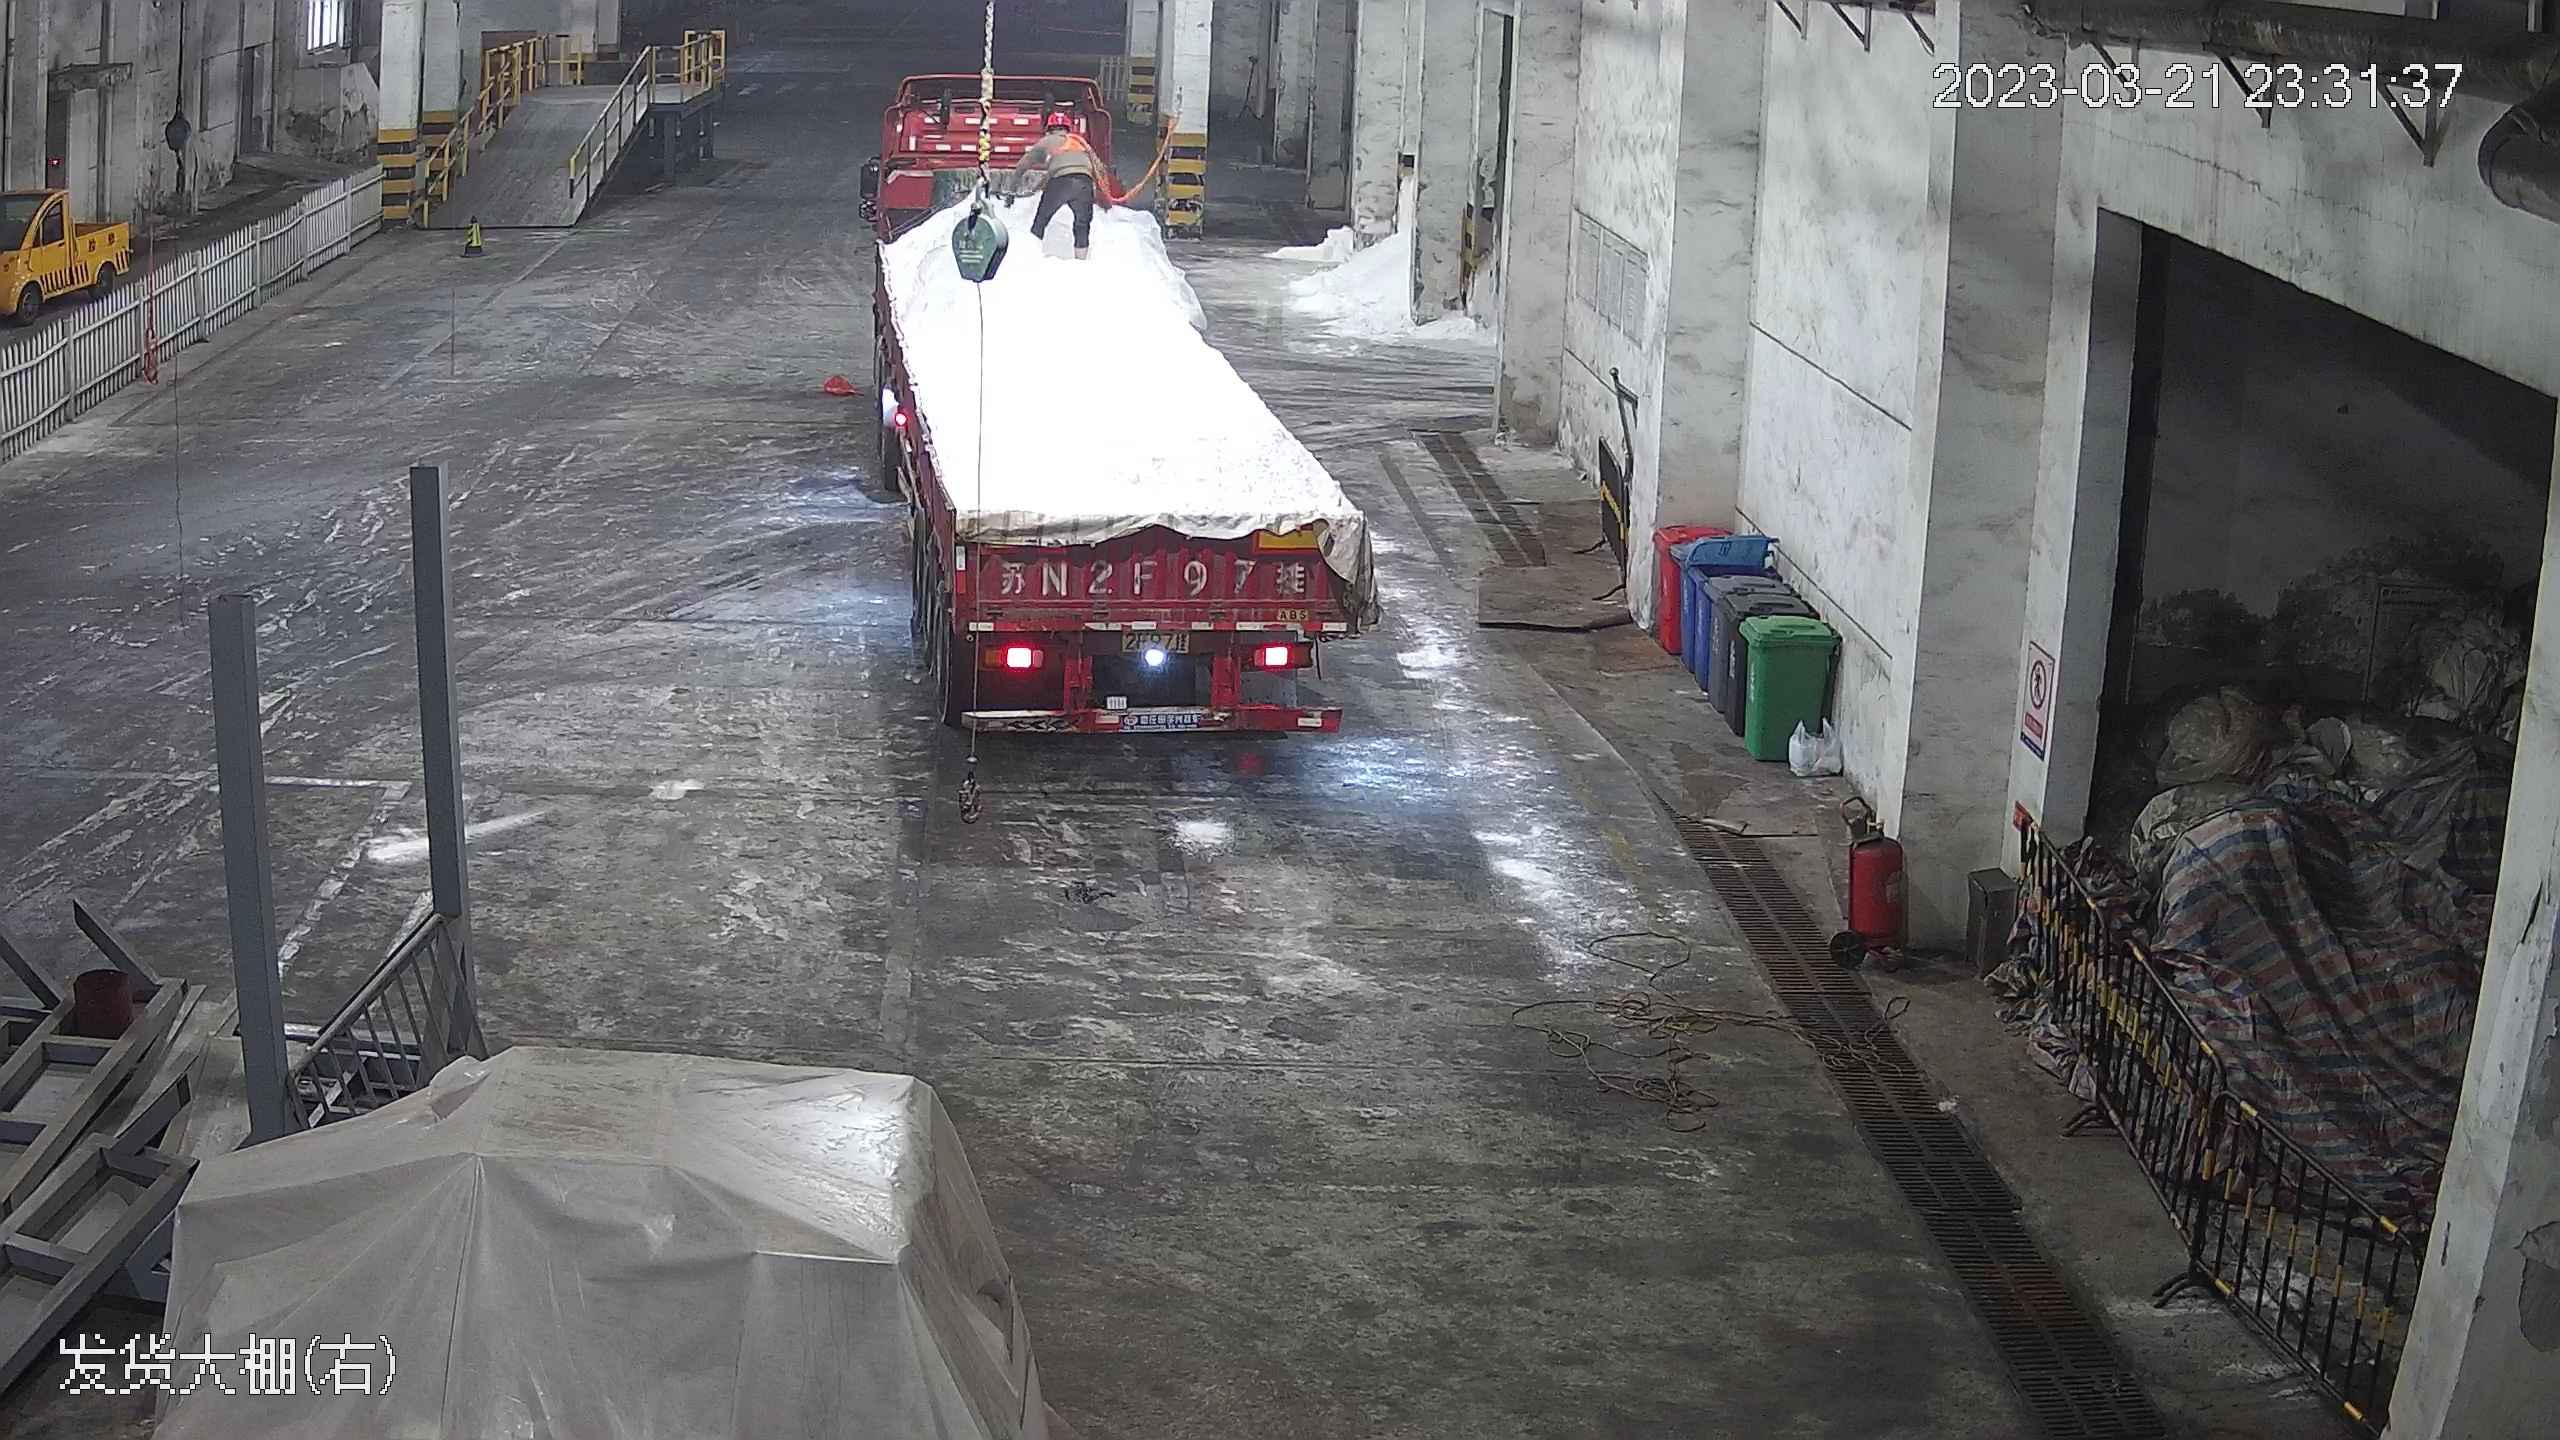belt: (1054, 126, 1088, 157)
head: (1038, 123, 1090, 163)
helmet: (1045, 112, 1075, 130)
people: (1016, 120, 1109, 259)
truck: (858, 45, 1381, 751)
